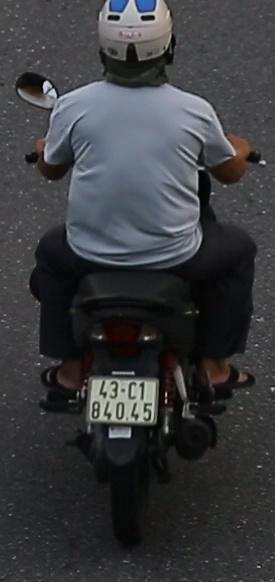LP: (84, 369, 162, 427)
helmet: (96, 0, 180, 87)
